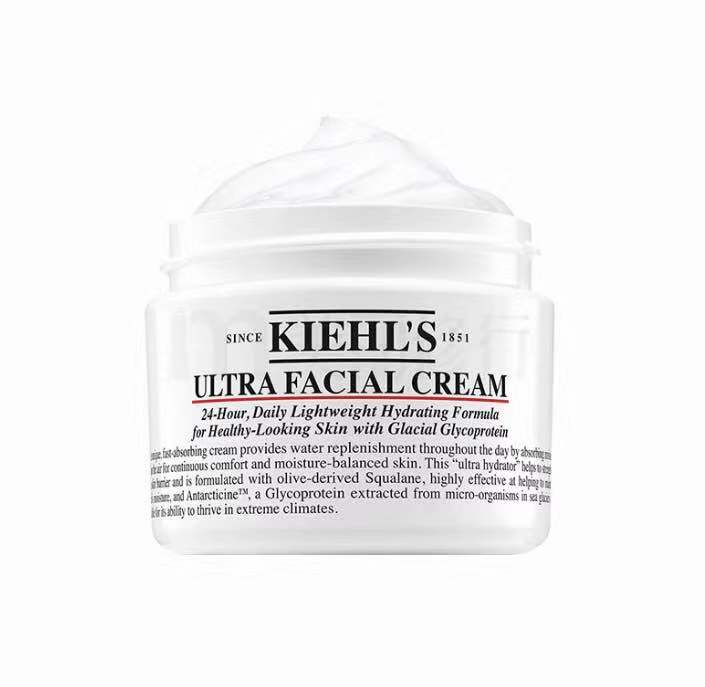cosmetic: (139, 212, 555, 557)
